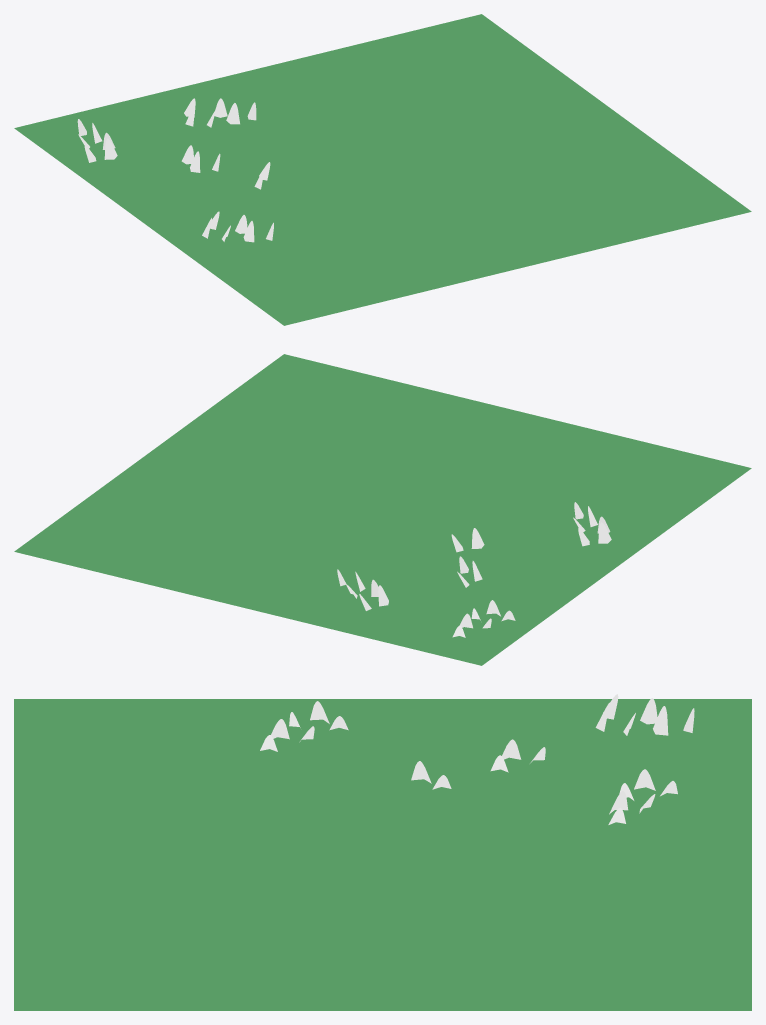
The model's file is GrassTest.fbx.
The picture shows the model from 3 angles, top to bottom: view 1: azimuth 30°, elevation 25°; view 2: azimuth 150°, elevation 25°; view 3: azimuth 270°, elevation 25°; orthographic projection. The views are drawn at different scales.
Visible parts, largest first — view 1: GrassPlane; view 2: GrassPlane; view 3: GrassPlane.
Part boxes in pixels (box(x1,y1,x2,y2)): GrassPlane: box(14, 14, 751, 325); GrassPlane: box(14, 354, 751, 665); GrassPlane: box(14, 699, 751, 1010).
Size of the model in its own units: 382 by 13.89 by 382.
